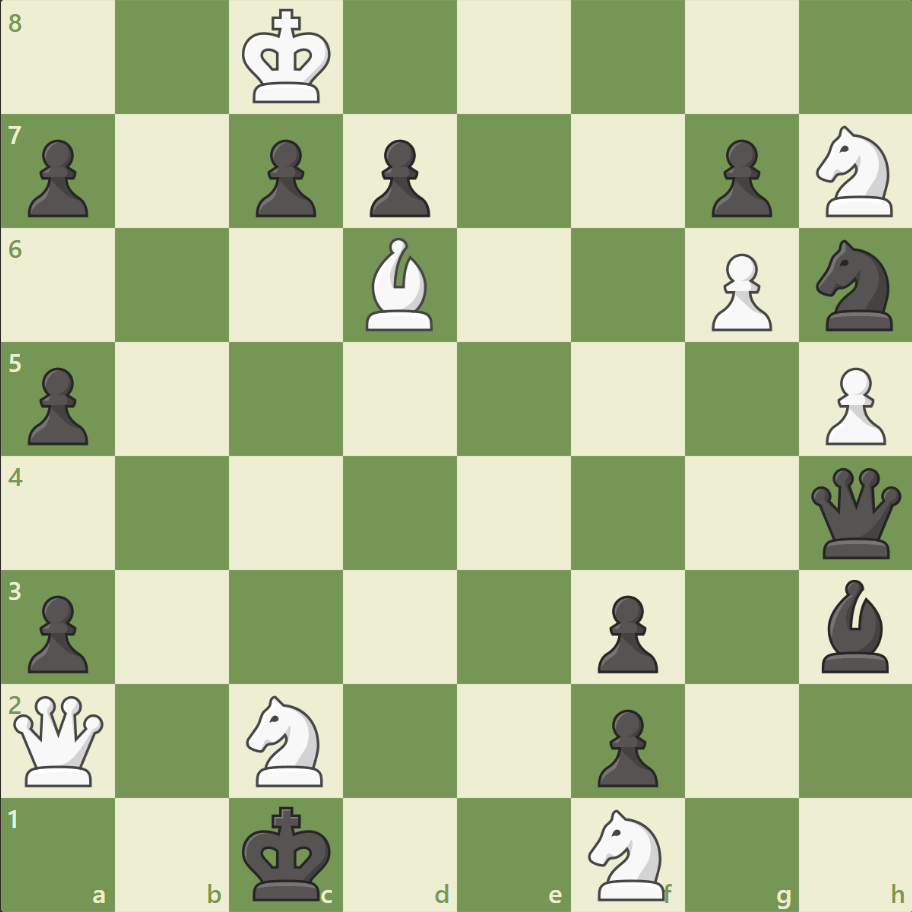B: (358, 233, 442, 336)
K: (238, 4, 338, 112)
N: (238, 688, 335, 791), (806, 121, 903, 223), (579, 802, 676, 904)
P: (701, 246, 776, 337), (815, 359, 889, 450)
Q: (10, 690, 109, 789)
b: (812, 574, 896, 676)
k: (238, 798, 338, 906)
n: (806, 234, 903, 337)
p: (20, 132, 95, 223), (247, 132, 322, 223), (701, 132, 776, 223), (20, 359, 95, 450), (20, 586, 95, 677), (361, 132, 435, 223), (588, 586, 662, 677), (588, 700, 662, 791)
q: (805, 463, 904, 562)
